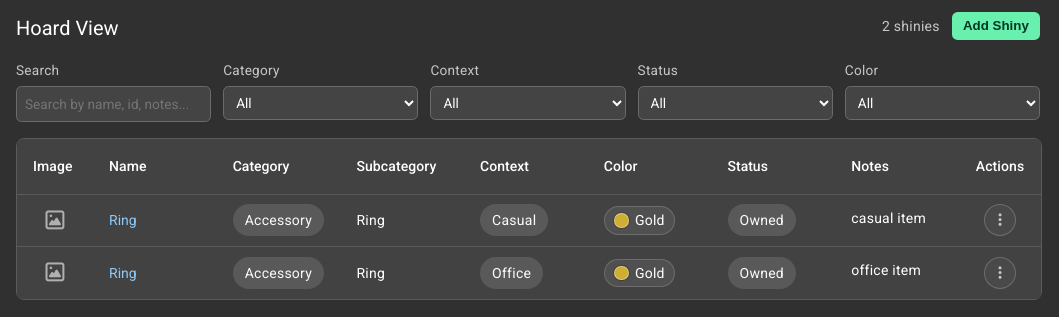
it: HoardViewComponent › filters rows by context from contexts[]
The width and height of the screenshot is (1059, 317).
Step 1. Select "Office" in the dropdown with id "context-filter" → (528, 103), box [430,86,626,120]
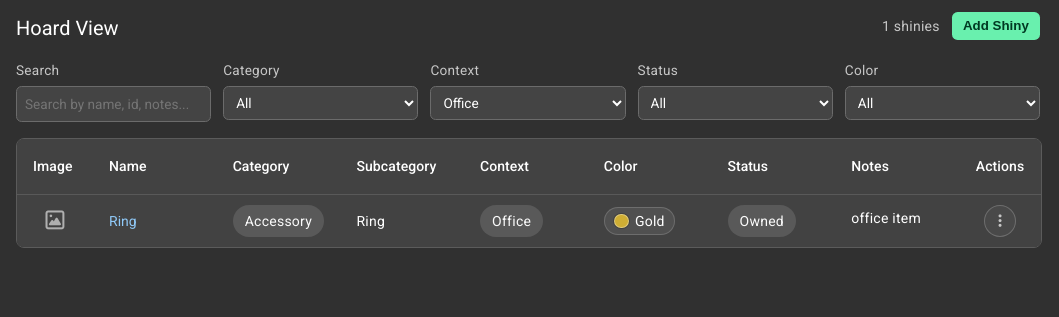
Expected: the text "office item" is shown, [851,208,921,228]
Expected: the text "casual item" is gone
